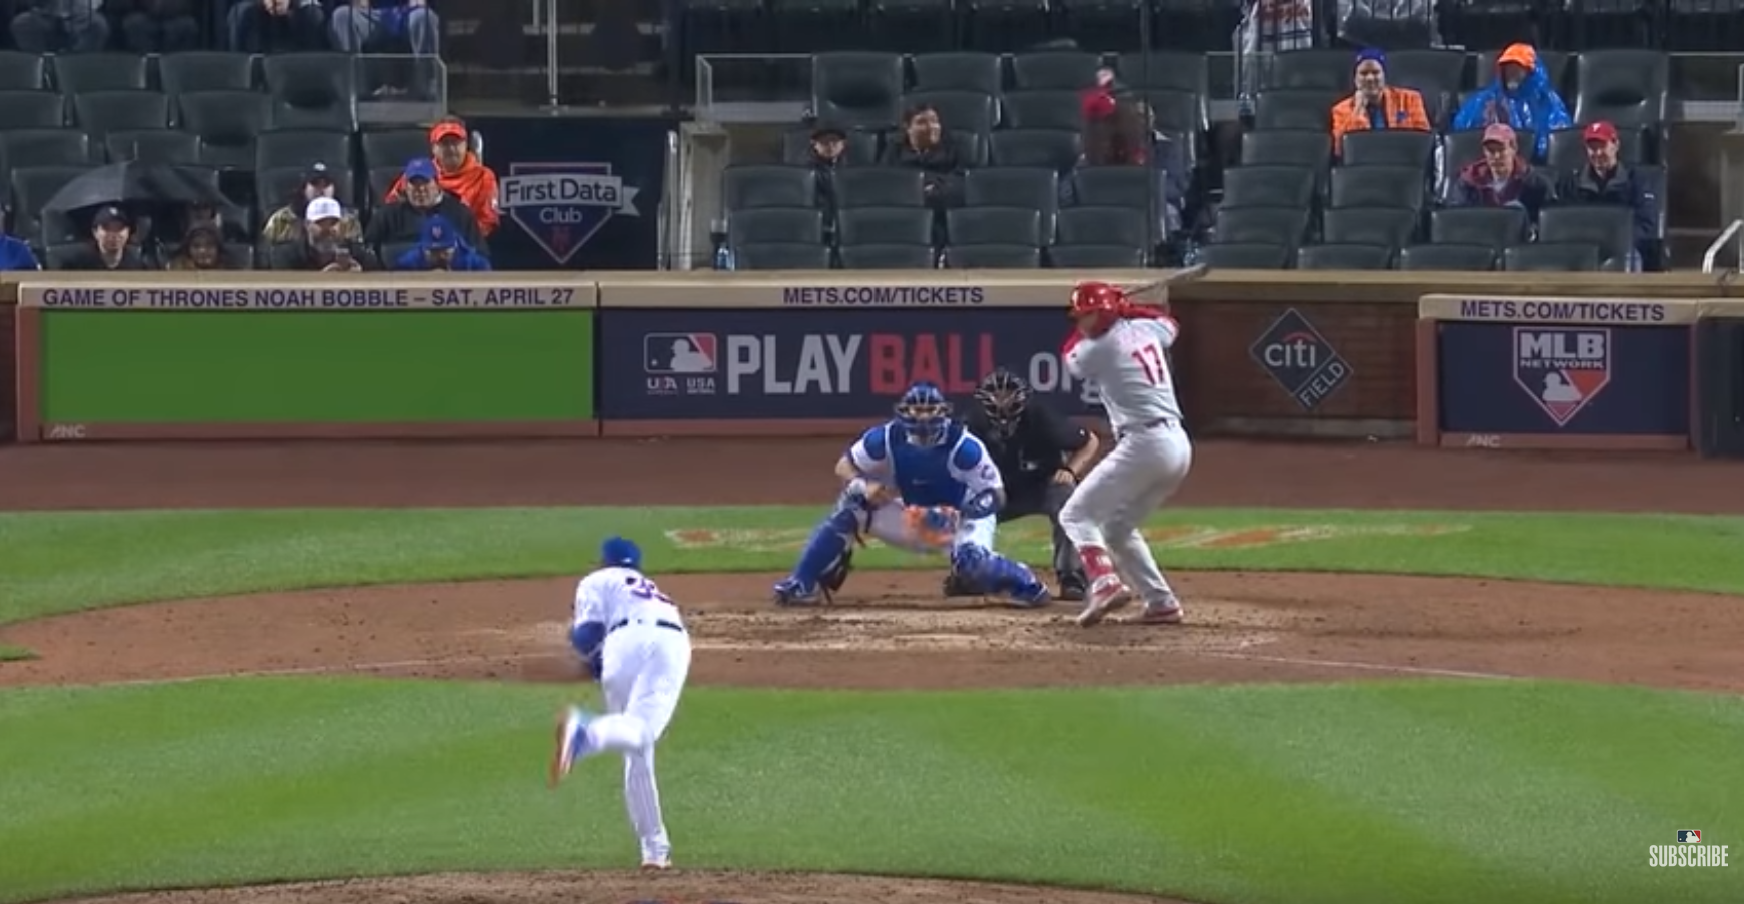ball: (850, 479, 865, 495)
